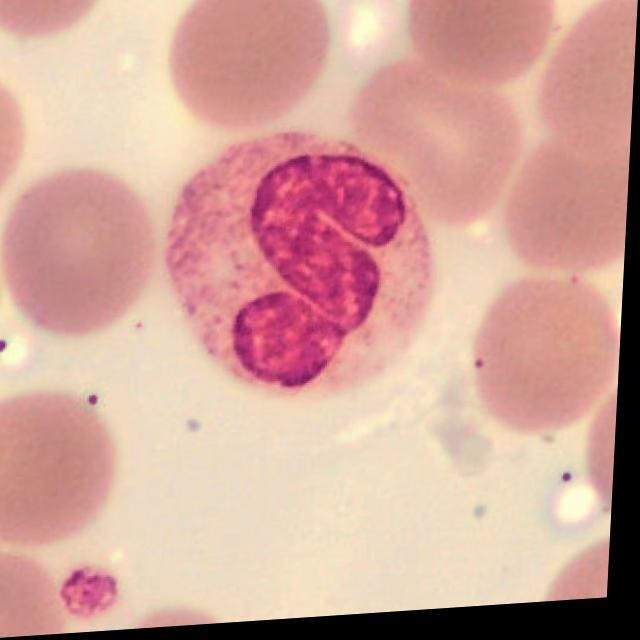Bastonete: (170, 136, 440, 402)
